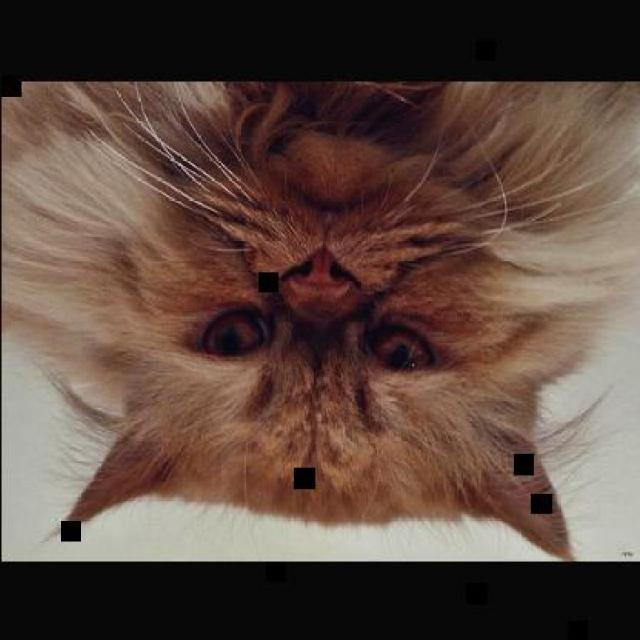unauthorized: (0, 78, 638, 558)
